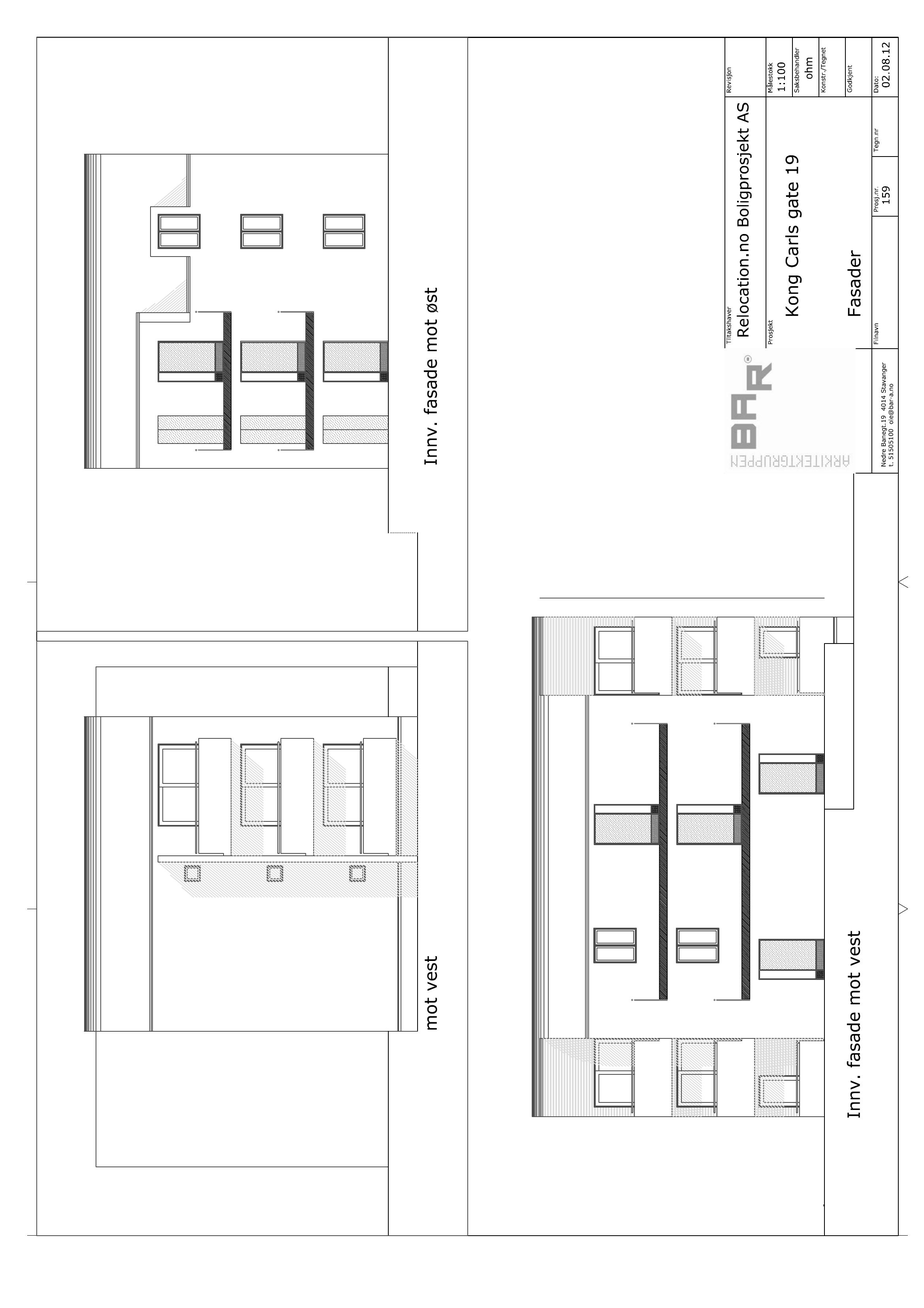fasade: (530, 616, 847, 1118), (83, 666, 417, 1032), (83, 154, 390, 468)
